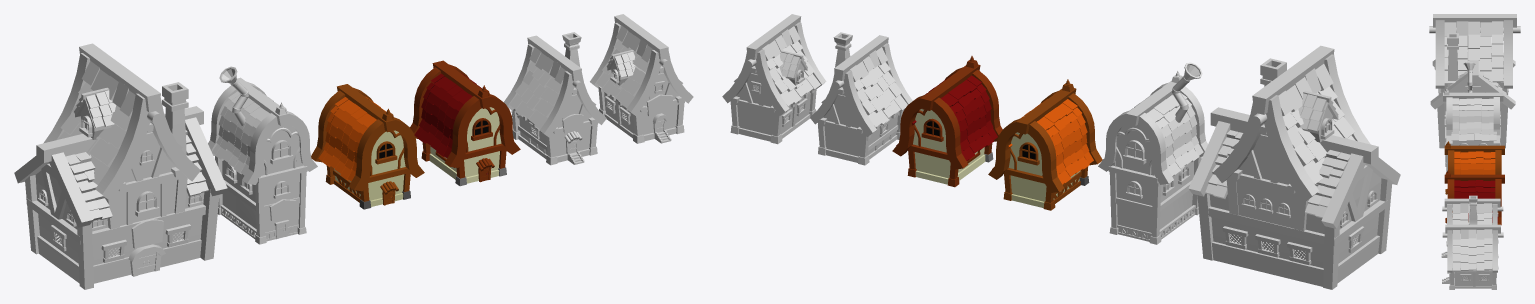
Rendered from F_House_Out_002.fbx.
3 views of the same model, side by side, from view 1: azimuth 30°, elevation 25°; view 2: azimuth 150°, elevation 25°; view 3: azimuth 270°, elevation 25° (orthographic). The views are drawn at different scales.
Visible parts, largest first — view 1: Plane008, Box137, Box295, Box178, Box251, Box240; view 2: Plane008, Box137, Box295, Box178, Box251, Box240; view 3: Plane008, Box240, Box137, Box295, Box251, Box178.
Boxes of the visible parts, x1,y1,x2,y2 form: Plane008: (14, 43, 227, 289); Box137: (208, 66, 317, 244); Box295: (311, 84, 424, 209); Box178: (410, 60, 520, 186); Box251: (503, 32, 606, 165); Box240: (590, 14, 693, 143); Plane008: (1188, 45, 1400, 289); Box137: (1098, 62, 1207, 244); Box295: (988, 79, 1102, 210); Box178: (892, 56, 1002, 187); Box251: (810, 32, 912, 165); Box240: (722, 14, 826, 144); Plane008: (1429, 14, 1520, 148); Box240: (1442, 224, 1503, 289); Box137: (1443, 62, 1503, 172); Box295: (1444, 141, 1504, 194); Box251: (1441, 195, 1503, 257); Box178: (1444, 170, 1504, 225).
Bounding box in the file's own units: 3340 × 935 × 681.
